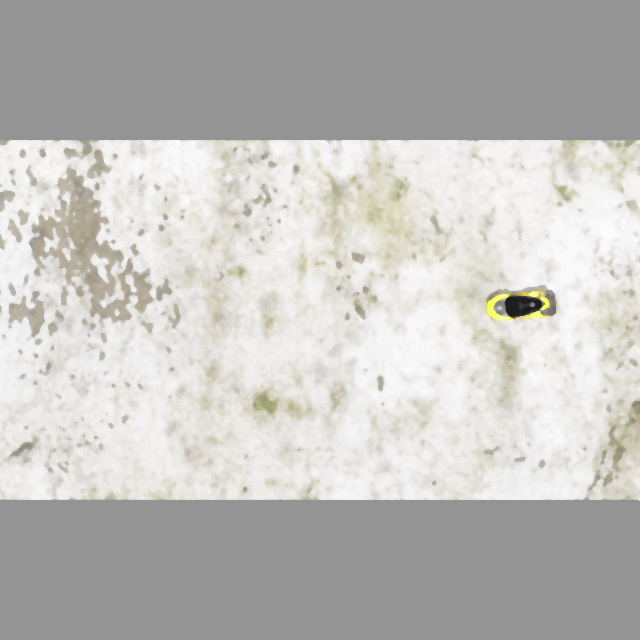car: (483, 287, 558, 324)
